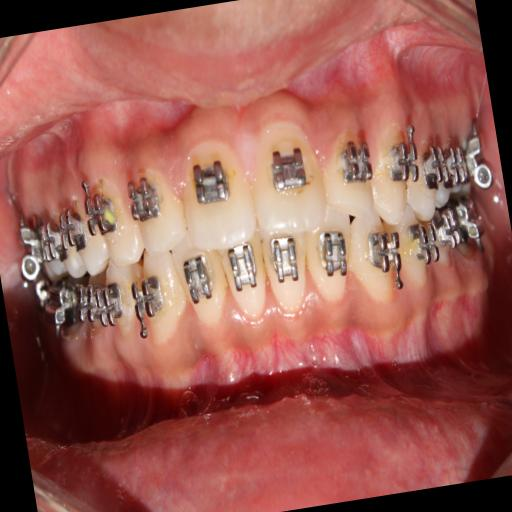correct_brace: (262, 141, 314, 199), (186, 153, 236, 210), (334, 132, 378, 193), (122, 172, 166, 224)
incorrect_brace: (118, 142, 188, 264), (316, 116, 383, 224)
